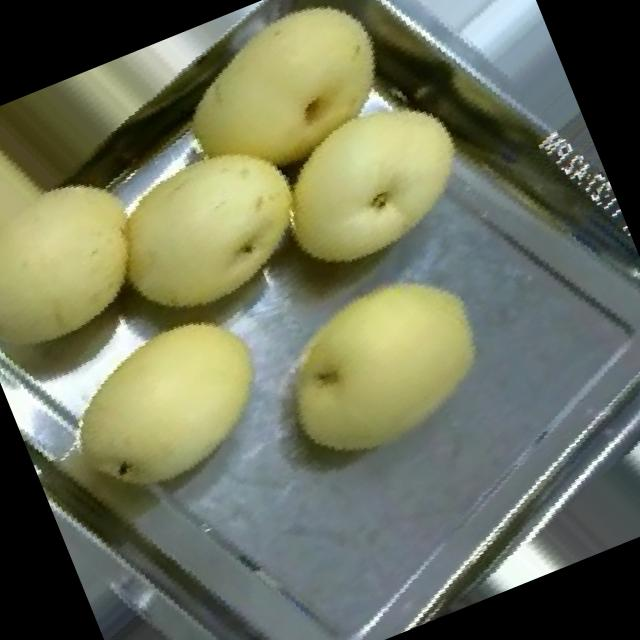Fruit: (0, 259, 322, 557), (53, 76, 365, 371), (232, 228, 530, 503), (0, 58, 217, 400), (226, 54, 508, 310), (131, 0, 435, 229)
